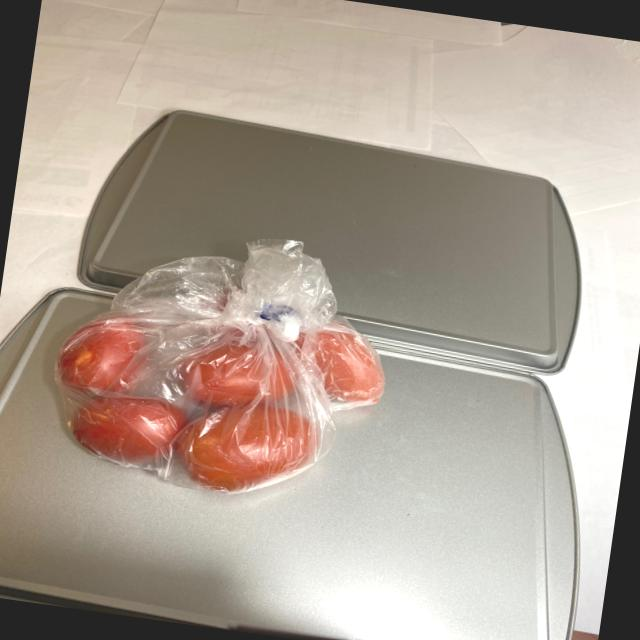tomato: (43, 233, 401, 515)
